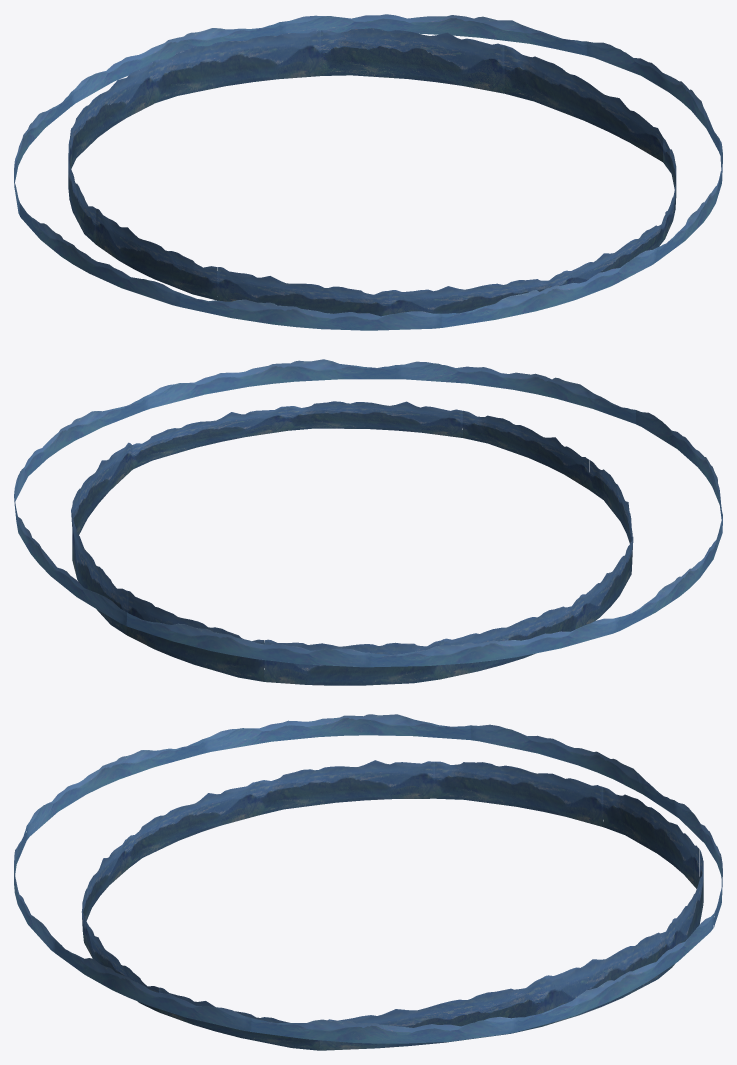
Rendered from Monaco_track_terrain_wall.dae.
The picture shows the model from 3 angles, top to bottom: view 1: azimuth 30°, elevation 25°; view 2: azimuth 150°, elevation 25°; view 3: azimuth 270°, elevation 25°; orthographic projection. The views are drawn at different scales.
Parts seen in each view (by area): view 1: terrain_Wall_01, terrain_Wall_02; view 2: terrain_Wall_01, terrain_Wall_02; view 3: terrain_Wall_01, terrain_Wall_02.
Boxes of the visible parts, x1=… form: terrain_Wall_01: x1=68, y1=28, x2=676, y2=316; terrain_Wall_02: x1=14, y1=14, x2=722, y2=330; terrain_Wall_01: x1=71, y1=401, x2=633, y2=685; terrain_Wall_02: x1=14, y1=359, x2=722, y2=667; terrain_Wall_01: x1=81, y1=760, x2=703, y2=1050; terrain_Wall_02: x1=14, y1=714, x2=722, y2=1043.
Bounding box in the file's own units: 248 × 240 × 19.29.
1 material, 1 textured.
